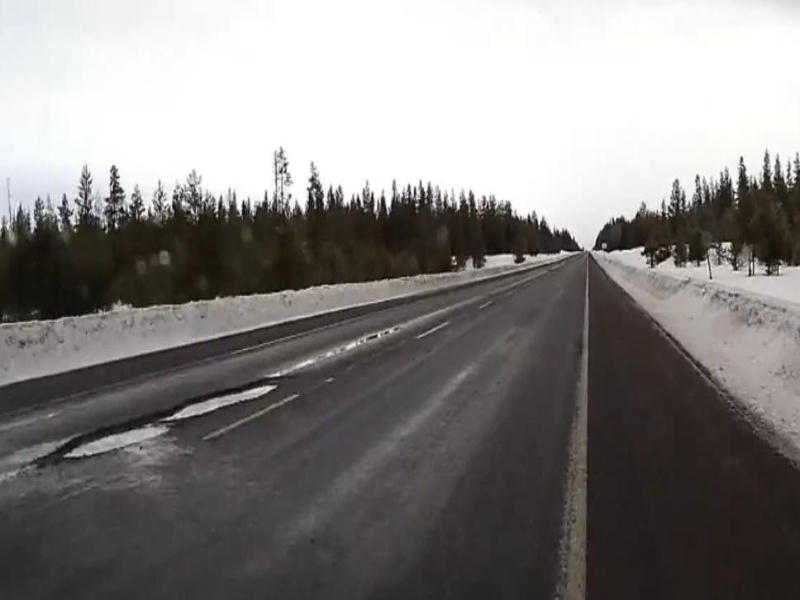pothole: (47, 419, 171, 470), (166, 382, 281, 421)
